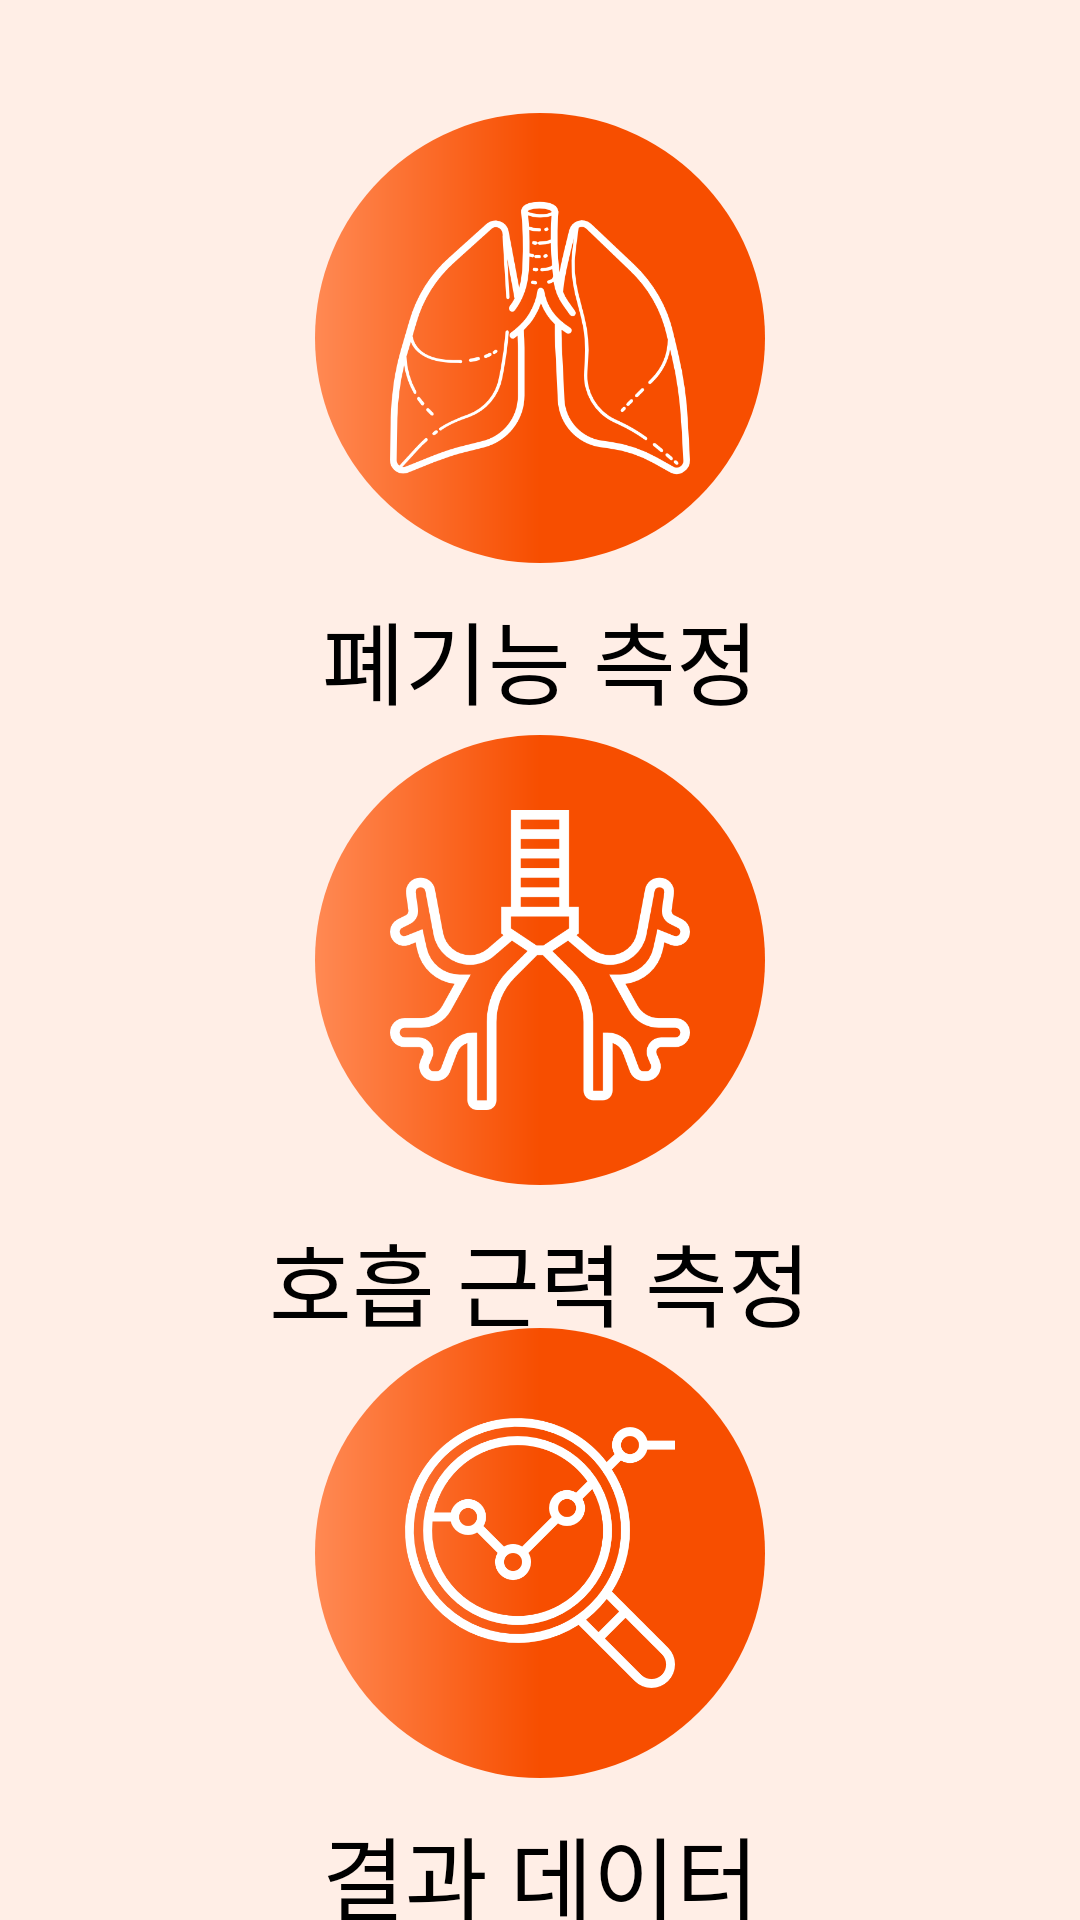

Screen size 1080w x 1920h. Icon name, then its center in pixels as point (x, y):
analysis: point (540, 1553)
bronchus: point (540, 960)
lungs: point (540, 338)
